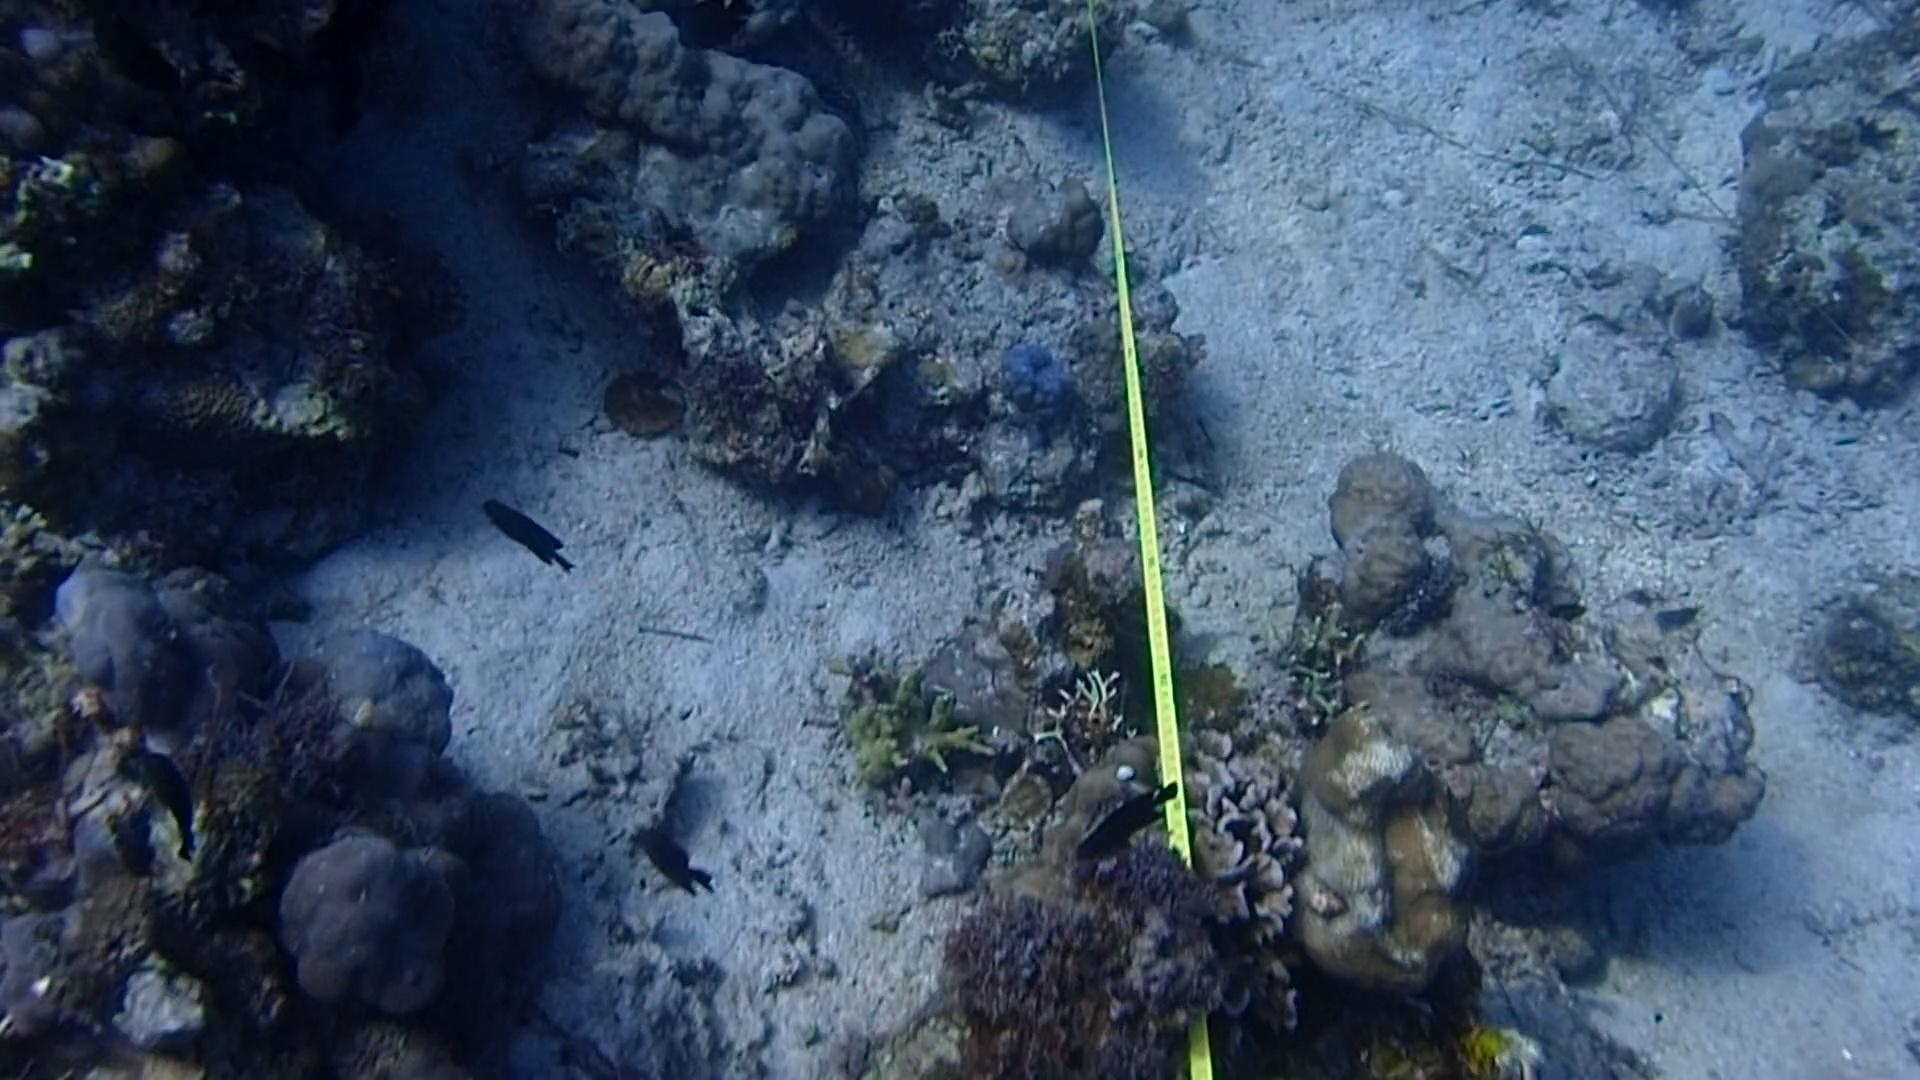Dark Fish: (108, 736, 208, 864), (1052, 781, 1180, 864), (476, 498, 583, 592), (328, 25, 392, 145), (636, 814, 715, 909), (663, 0, 760, 45)
Light Fish: (1640, 265, 1708, 343)
